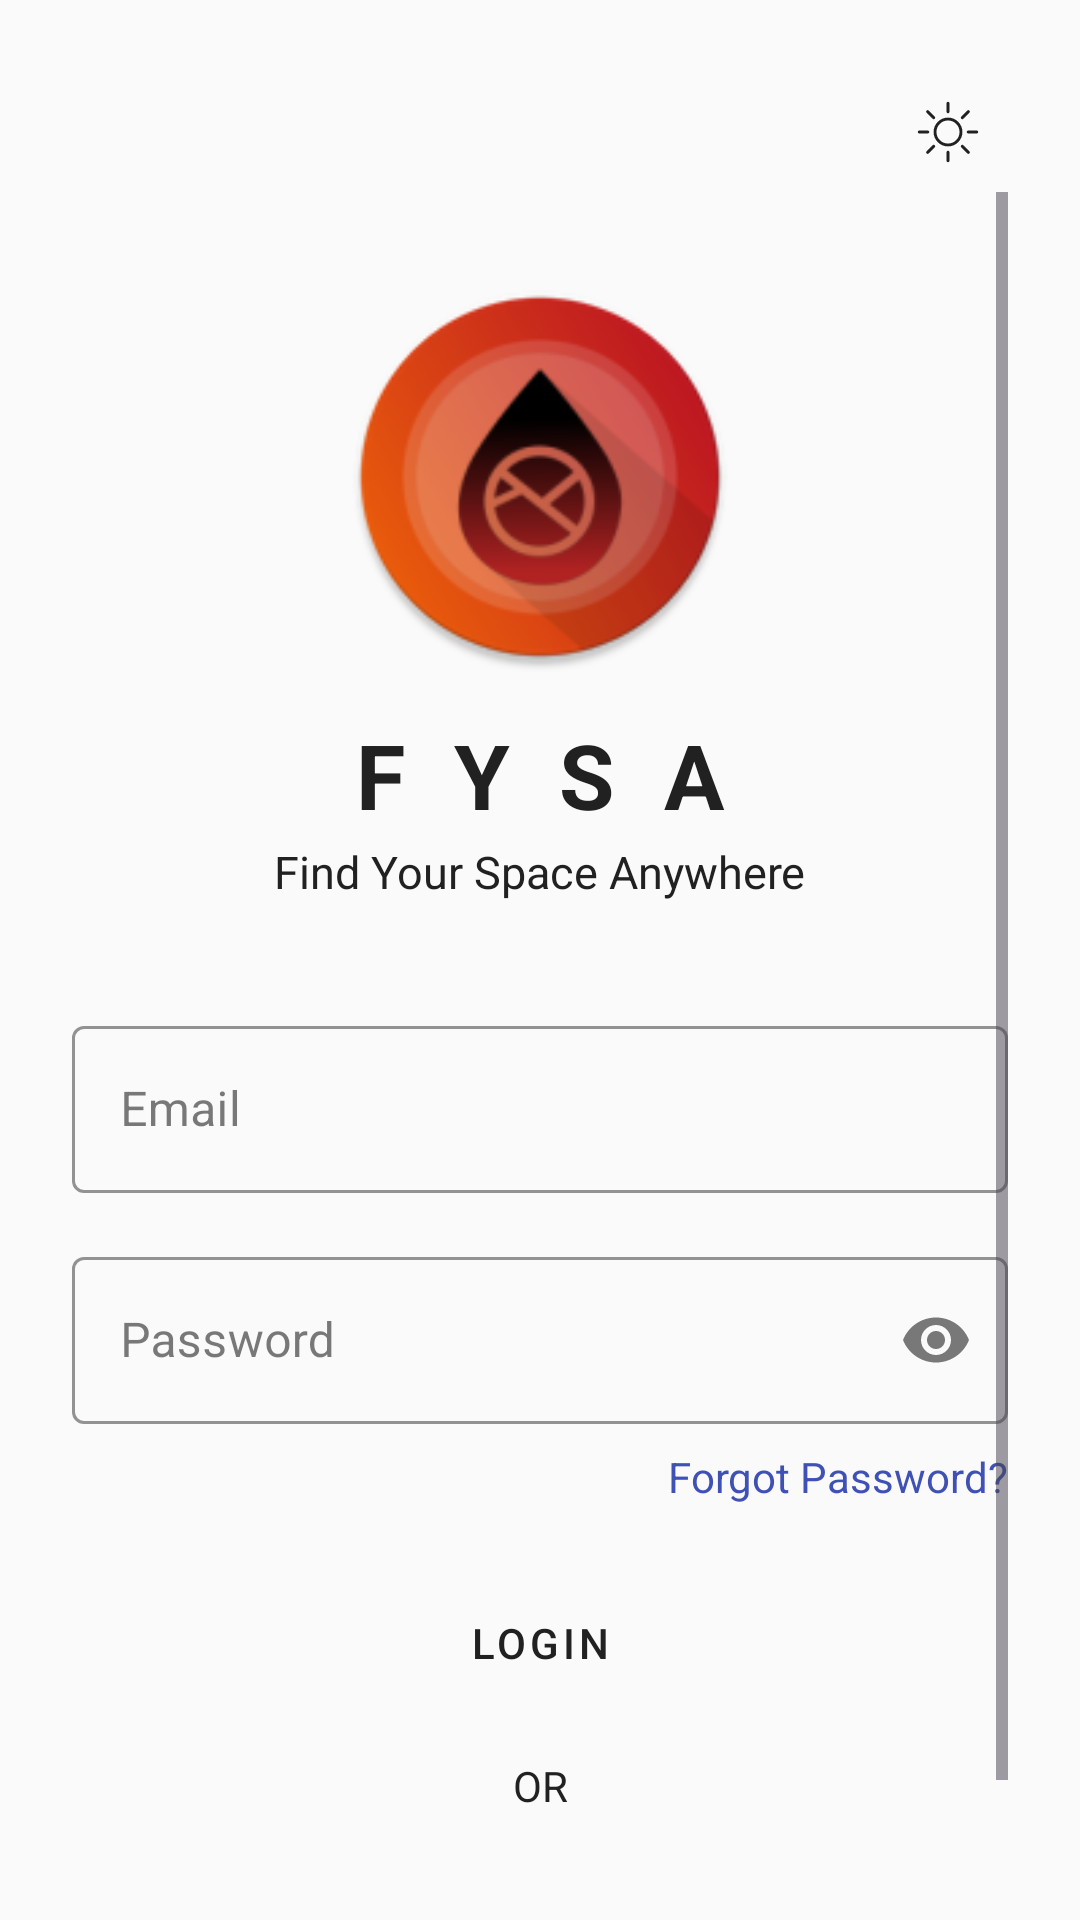

Icons on this 1080px x 1920px Android screen, each with its box as (x1, y1, x2, y2):
Theme Toggle Icon: (918, 102, 978, 162)
